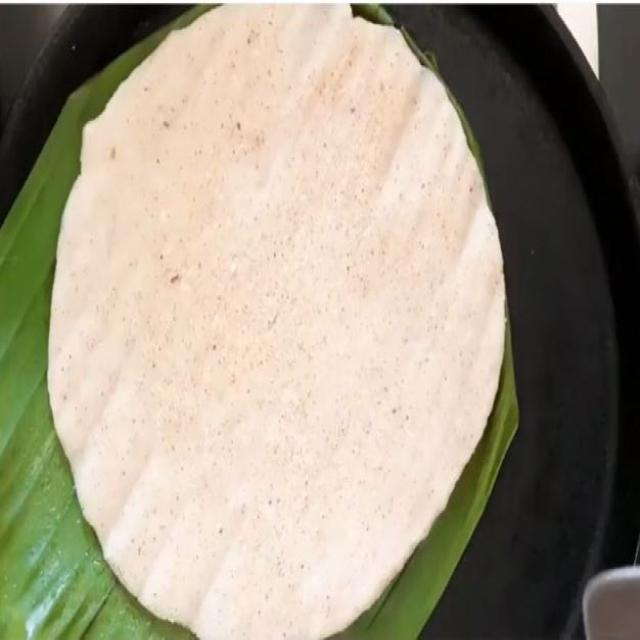DOSA: (45, 3, 505, 635)
RICE BHAKRI: (48, 9, 504, 638)
